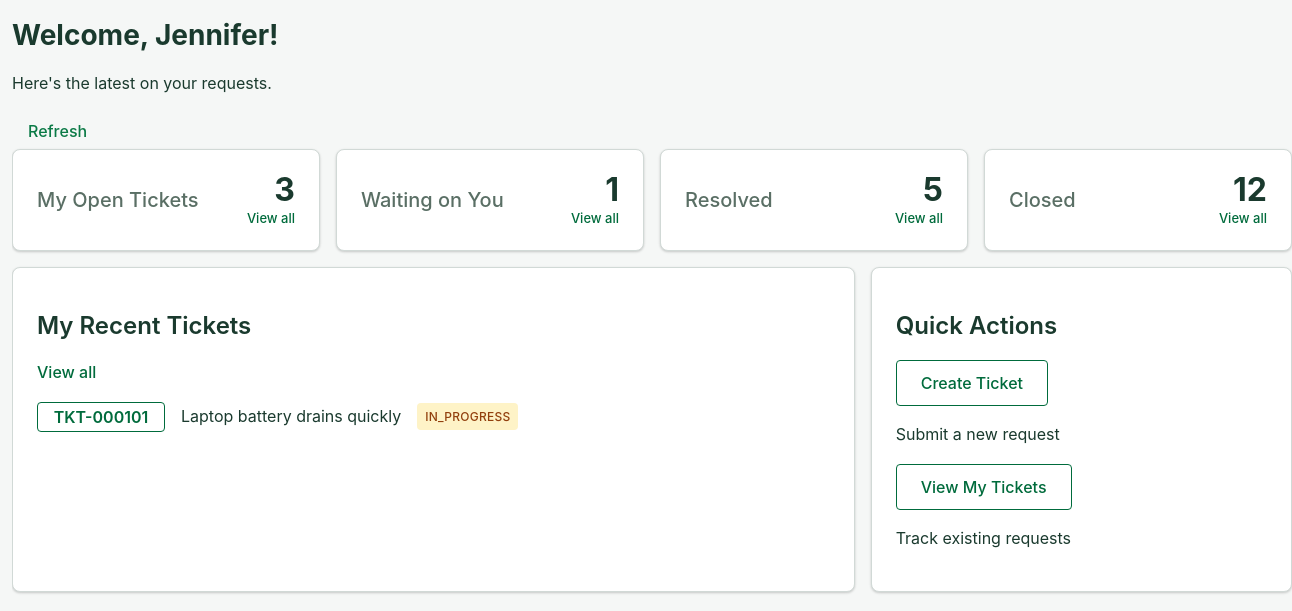
UI-07 — Requester Dashboard rendering (AC-02, AC-11 / FR-10) › refresh re-fetches without a reload; failure shows retry
The image size is (1292, 611).
Expected: the element with test id "requester-metric-cards" is shown, [12,149,1291,251]
Click the button with test id "dashboard-refresh-btn": x=58, y=131 [12,113,103,149]
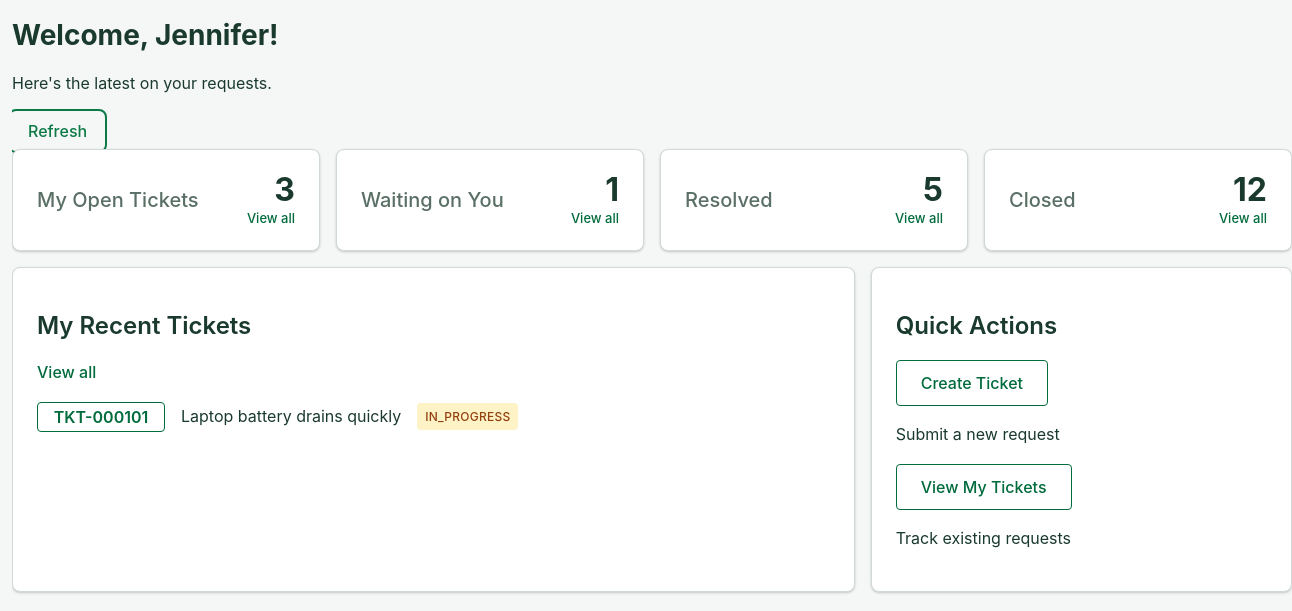
Click the button with test id "dashboard-refresh-btn": x=58, y=131 [12,113,103,149]
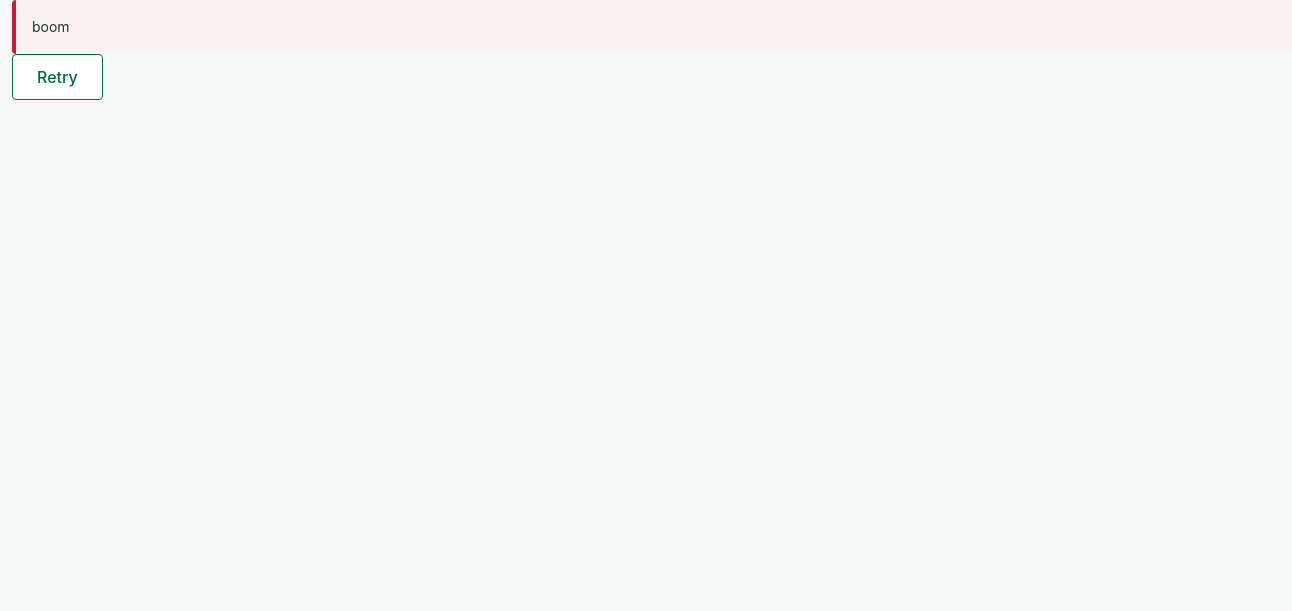
Now the button with test id "dashboard-retry" is shown, box [12,54,103,100]
